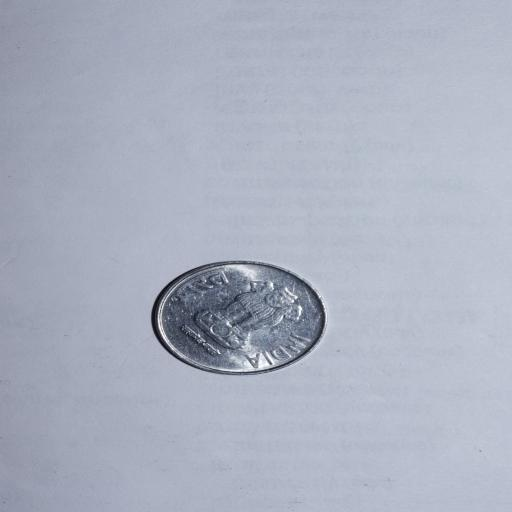rupee1: (150, 259, 329, 376)
